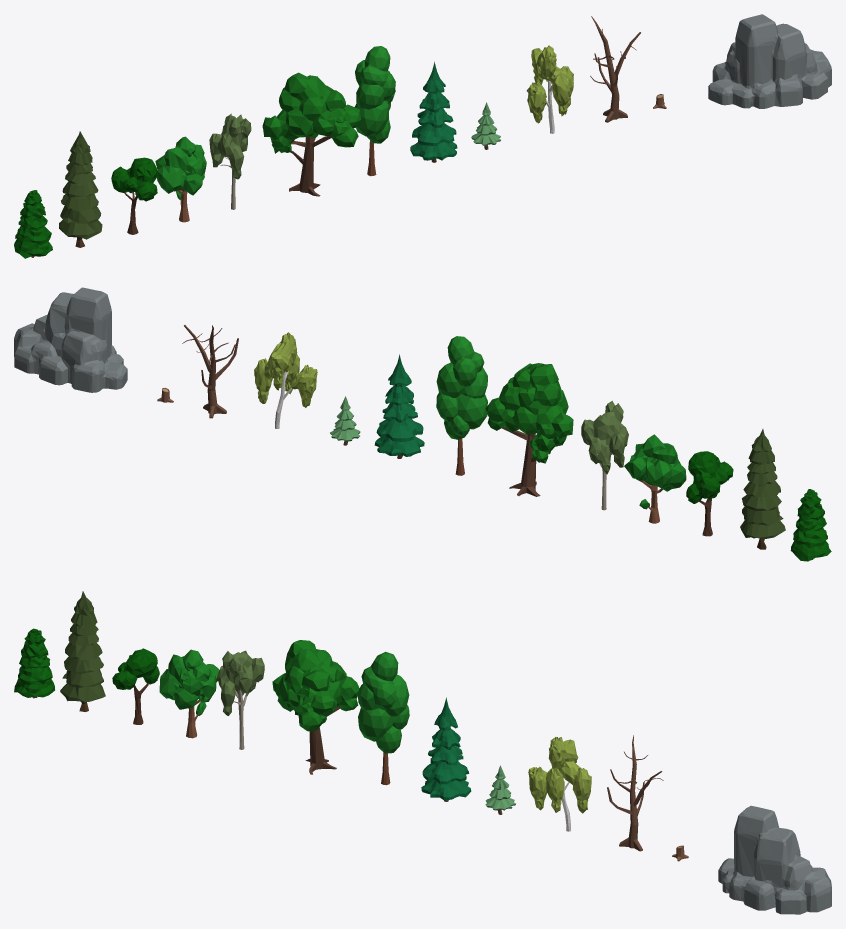
Rendered from TreesRock_fixed.fbx.
3 views of the same model, one above another, from view 1: azimuth 30°, elevation 25°; view 2: azimuth 150°, elevation 25°; view 3: azimuth 330°, elevation 25° (orthographic). The views are drawn at different scales.
Visible parts, largest first — view 1: Rock_1, 6_tree, 7_tree, 2_tree, 8_tree, 4_tree, 10_tree, 5_tree, 1_tree, 3_tree, 11_tree, 9_tree; view 2: Rock_1, 6_tree, 7_tree, 2_tree, 8_tree, 10_tree, 4_tree, 5_tree, 3_tree, 1_tree, 11_tree, 9_tree; view 3: Rock_1, 6_tree, 7_tree, 2_tree, 10_tree, 8_tree, 4_tree, 5_tree, 1_tree, 3_tree, 11_tree, 9_tree.
Part boxes in pixels (bbox=[...]): Rock_1: bbox=[708, 14, 831, 108]; 6_tree: bbox=[262, 72, 361, 196]; 7_tree: bbox=[355, 46, 395, 176]; 2_tree: bbox=[59, 131, 102, 247]; 8_tree: bbox=[410, 61, 457, 162]; 4_tree: bbox=[155, 136, 206, 222]; 10_tree: bbox=[526, 45, 573, 133]; 5_tree: bbox=[209, 113, 251, 209]; 1_tree: bbox=[14, 190, 52, 258]; 3_tree: bbox=[111, 157, 157, 234]; 11_tree: bbox=[590, 16, 640, 122]; 9_tree: bbox=[471, 102, 500, 149]; Rock_1: bbox=[14, 287, 127, 392]; 6_tree: bbox=[485, 363, 573, 496]; 7_tree: bbox=[436, 336, 487, 475]; 2_tree: bbox=[740, 429, 785, 549]; 8_tree: bbox=[374, 354, 424, 458]; 10_tree: bbox=[254, 332, 317, 428]; 4_tree: bbox=[624, 434, 686, 523]; 5_tree: bbox=[581, 400, 628, 510]; 3_tree: bbox=[686, 451, 733, 536]; 1_tree: bbox=[790, 489, 831, 561]; 11_tree: bbox=[182, 325, 238, 418]; 9_tree: bbox=[330, 396, 360, 445]; Rock_1: bbox=[718, 805, 831, 914]; 6_tree: bbox=[272, 640, 359, 774]; 7_tree: bbox=[358, 651, 409, 785]; 2_tree: bbox=[60, 591, 105, 711]; 10_tree: bbox=[528, 737, 591, 831]; 8_tree: bbox=[421, 697, 471, 801]; 4_tree: bbox=[159, 649, 219, 738]; 5_tree: bbox=[217, 650, 264, 749]; 1_tree: bbox=[14, 628, 54, 698]; 3_tree: bbox=[112, 648, 159, 724]; 11_tree: bbox=[607, 735, 663, 851]; 9_tree: bbox=[485, 765, 515, 814].
Bounding box in the file's own units: 5964 × 936 × 593.
